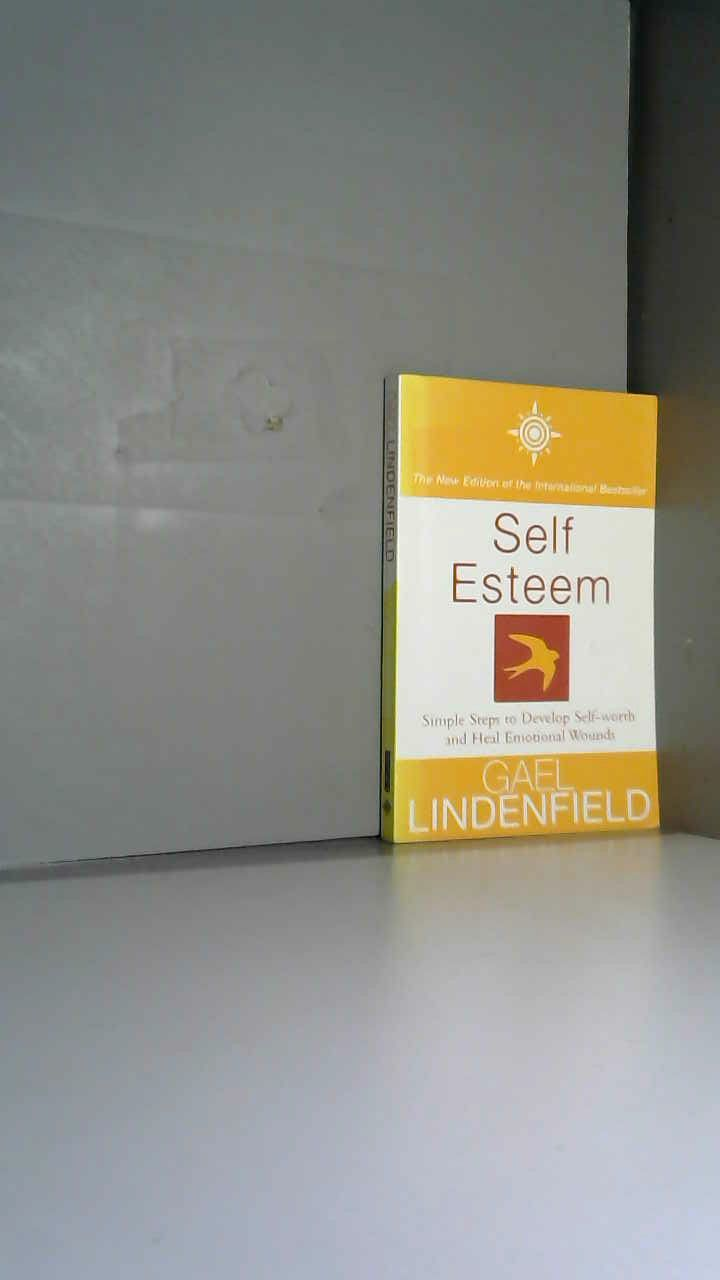book: (350, 340, 720, 895)
